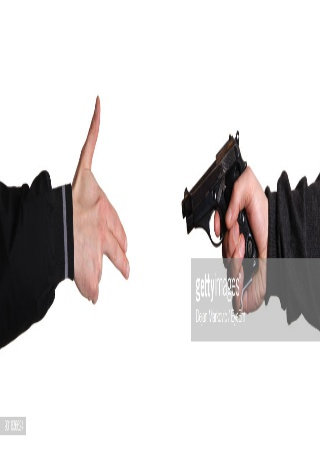handgun: (181, 129, 262, 293)
